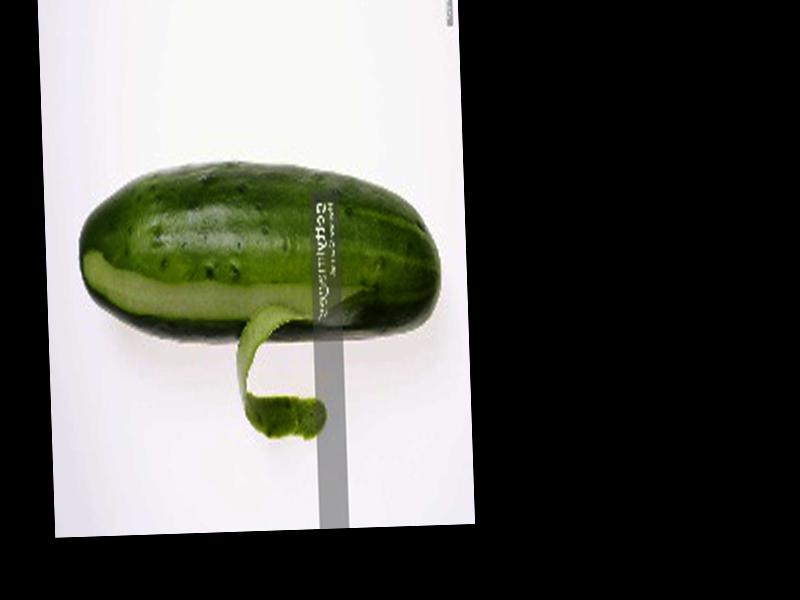Cucumber: (75, 157, 443, 352)
